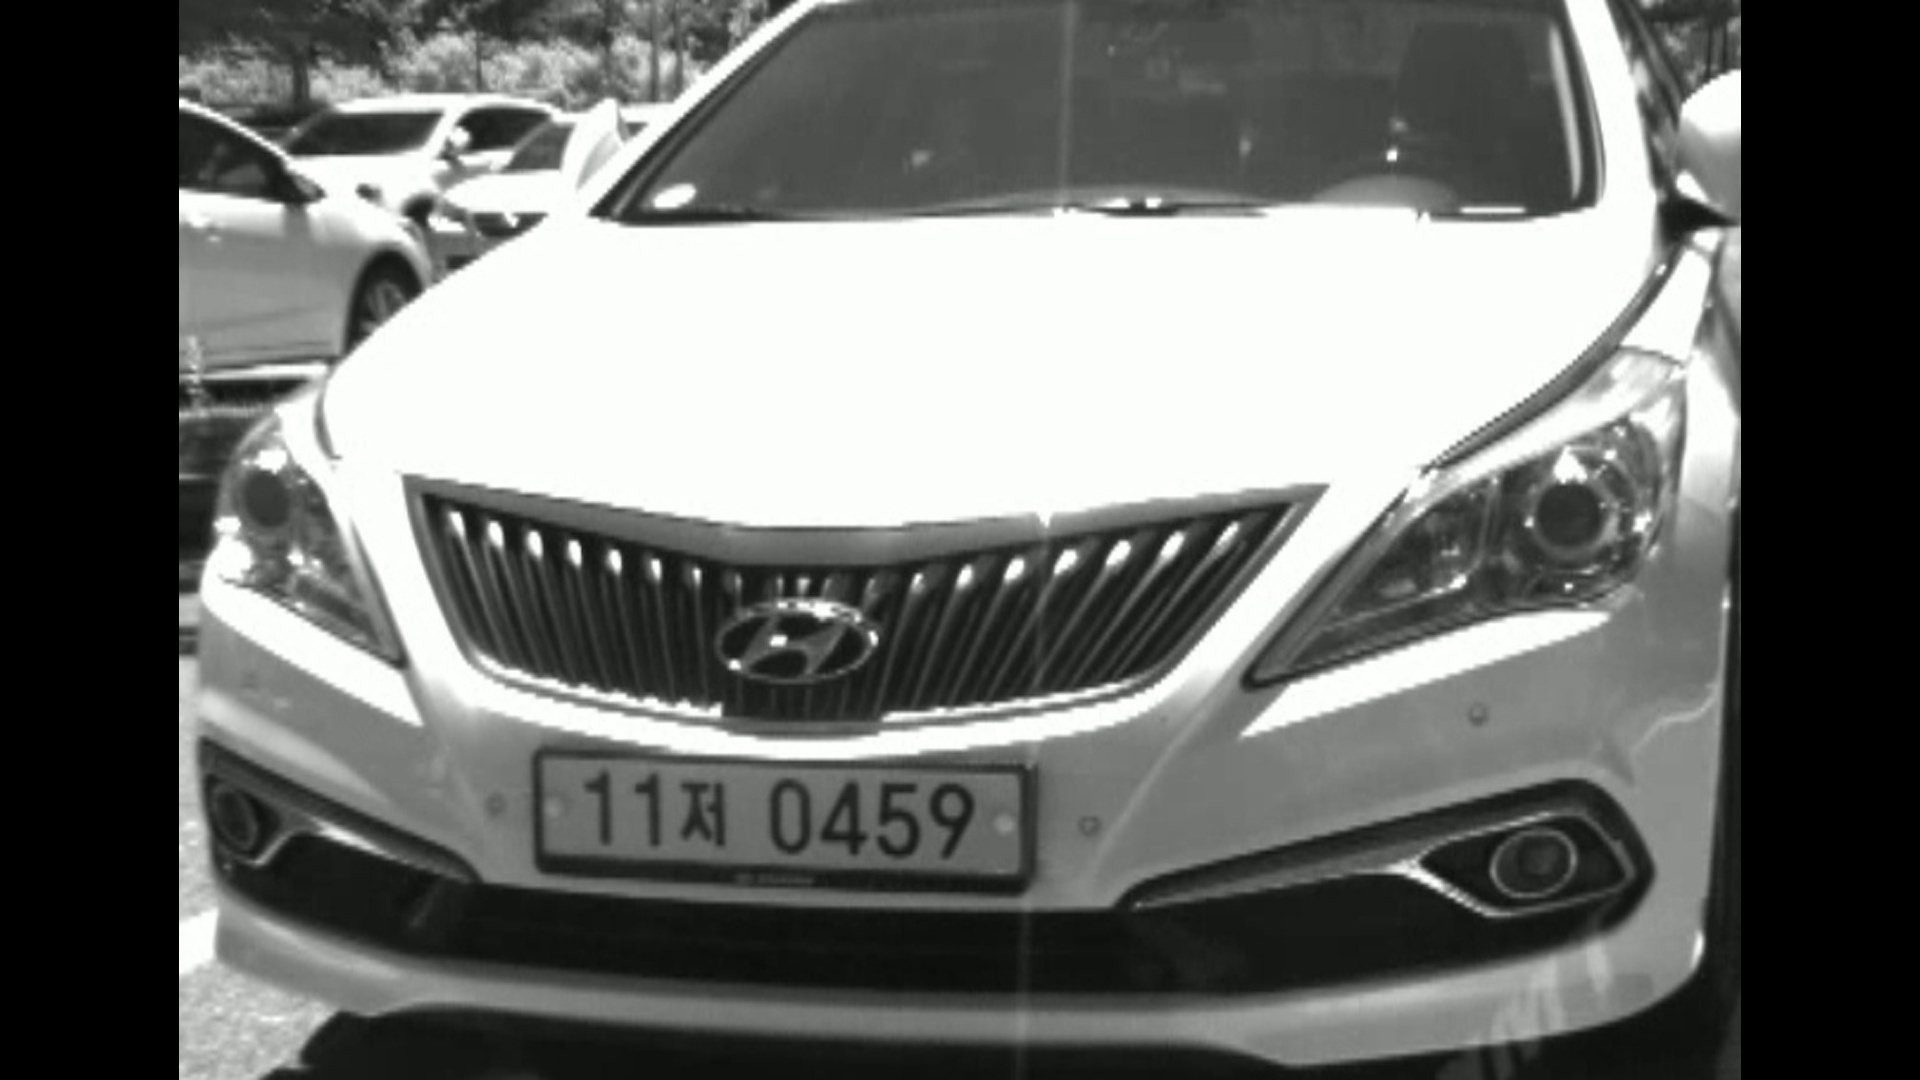license_plate: (532, 745, 1040, 893)
